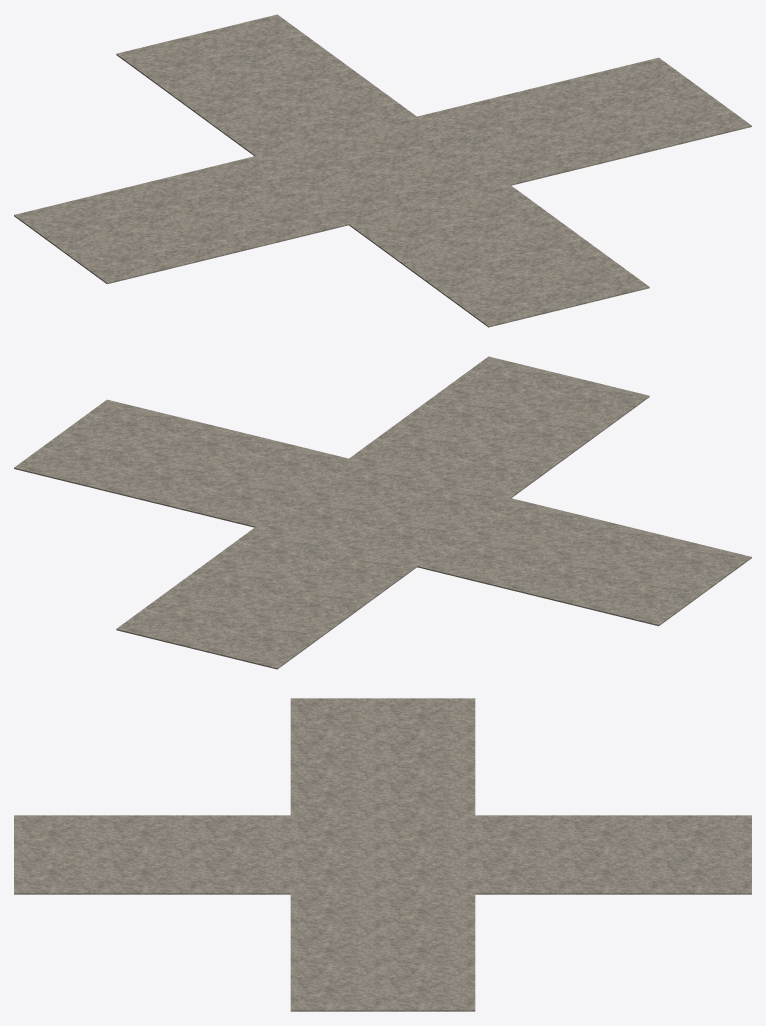
Rendered from path-cross.obj.
3 renders of one model, top to bottom at view 1: azimuth 30°, elevation 25°; view 2: azimuth 150°, elevation 25°; view 3: azimuth 270°, elevation 25°, orthographic.
Parts seen in each view (by area): view 1: gravel; view 2: gravel; view 3: gravel.
Boxes of the visible parts, x1,y1,x2,y2 form: gravel: [14, 14, 751, 327]; gravel: [14, 356, 751, 669]; gravel: [14, 698, 751, 1011].
Bounding box in the file's own units: 16 × 0.031 × 16.
Materials: 1 (1 with a texture image).
